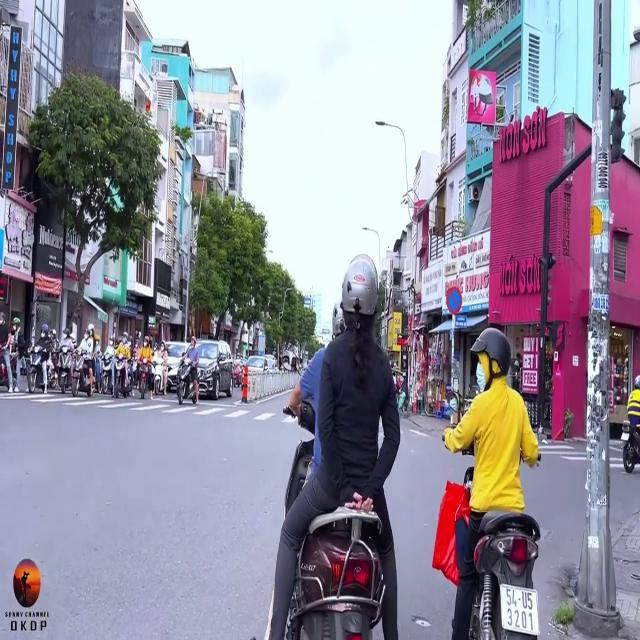bien_trang: (498, 584, 540, 640)
